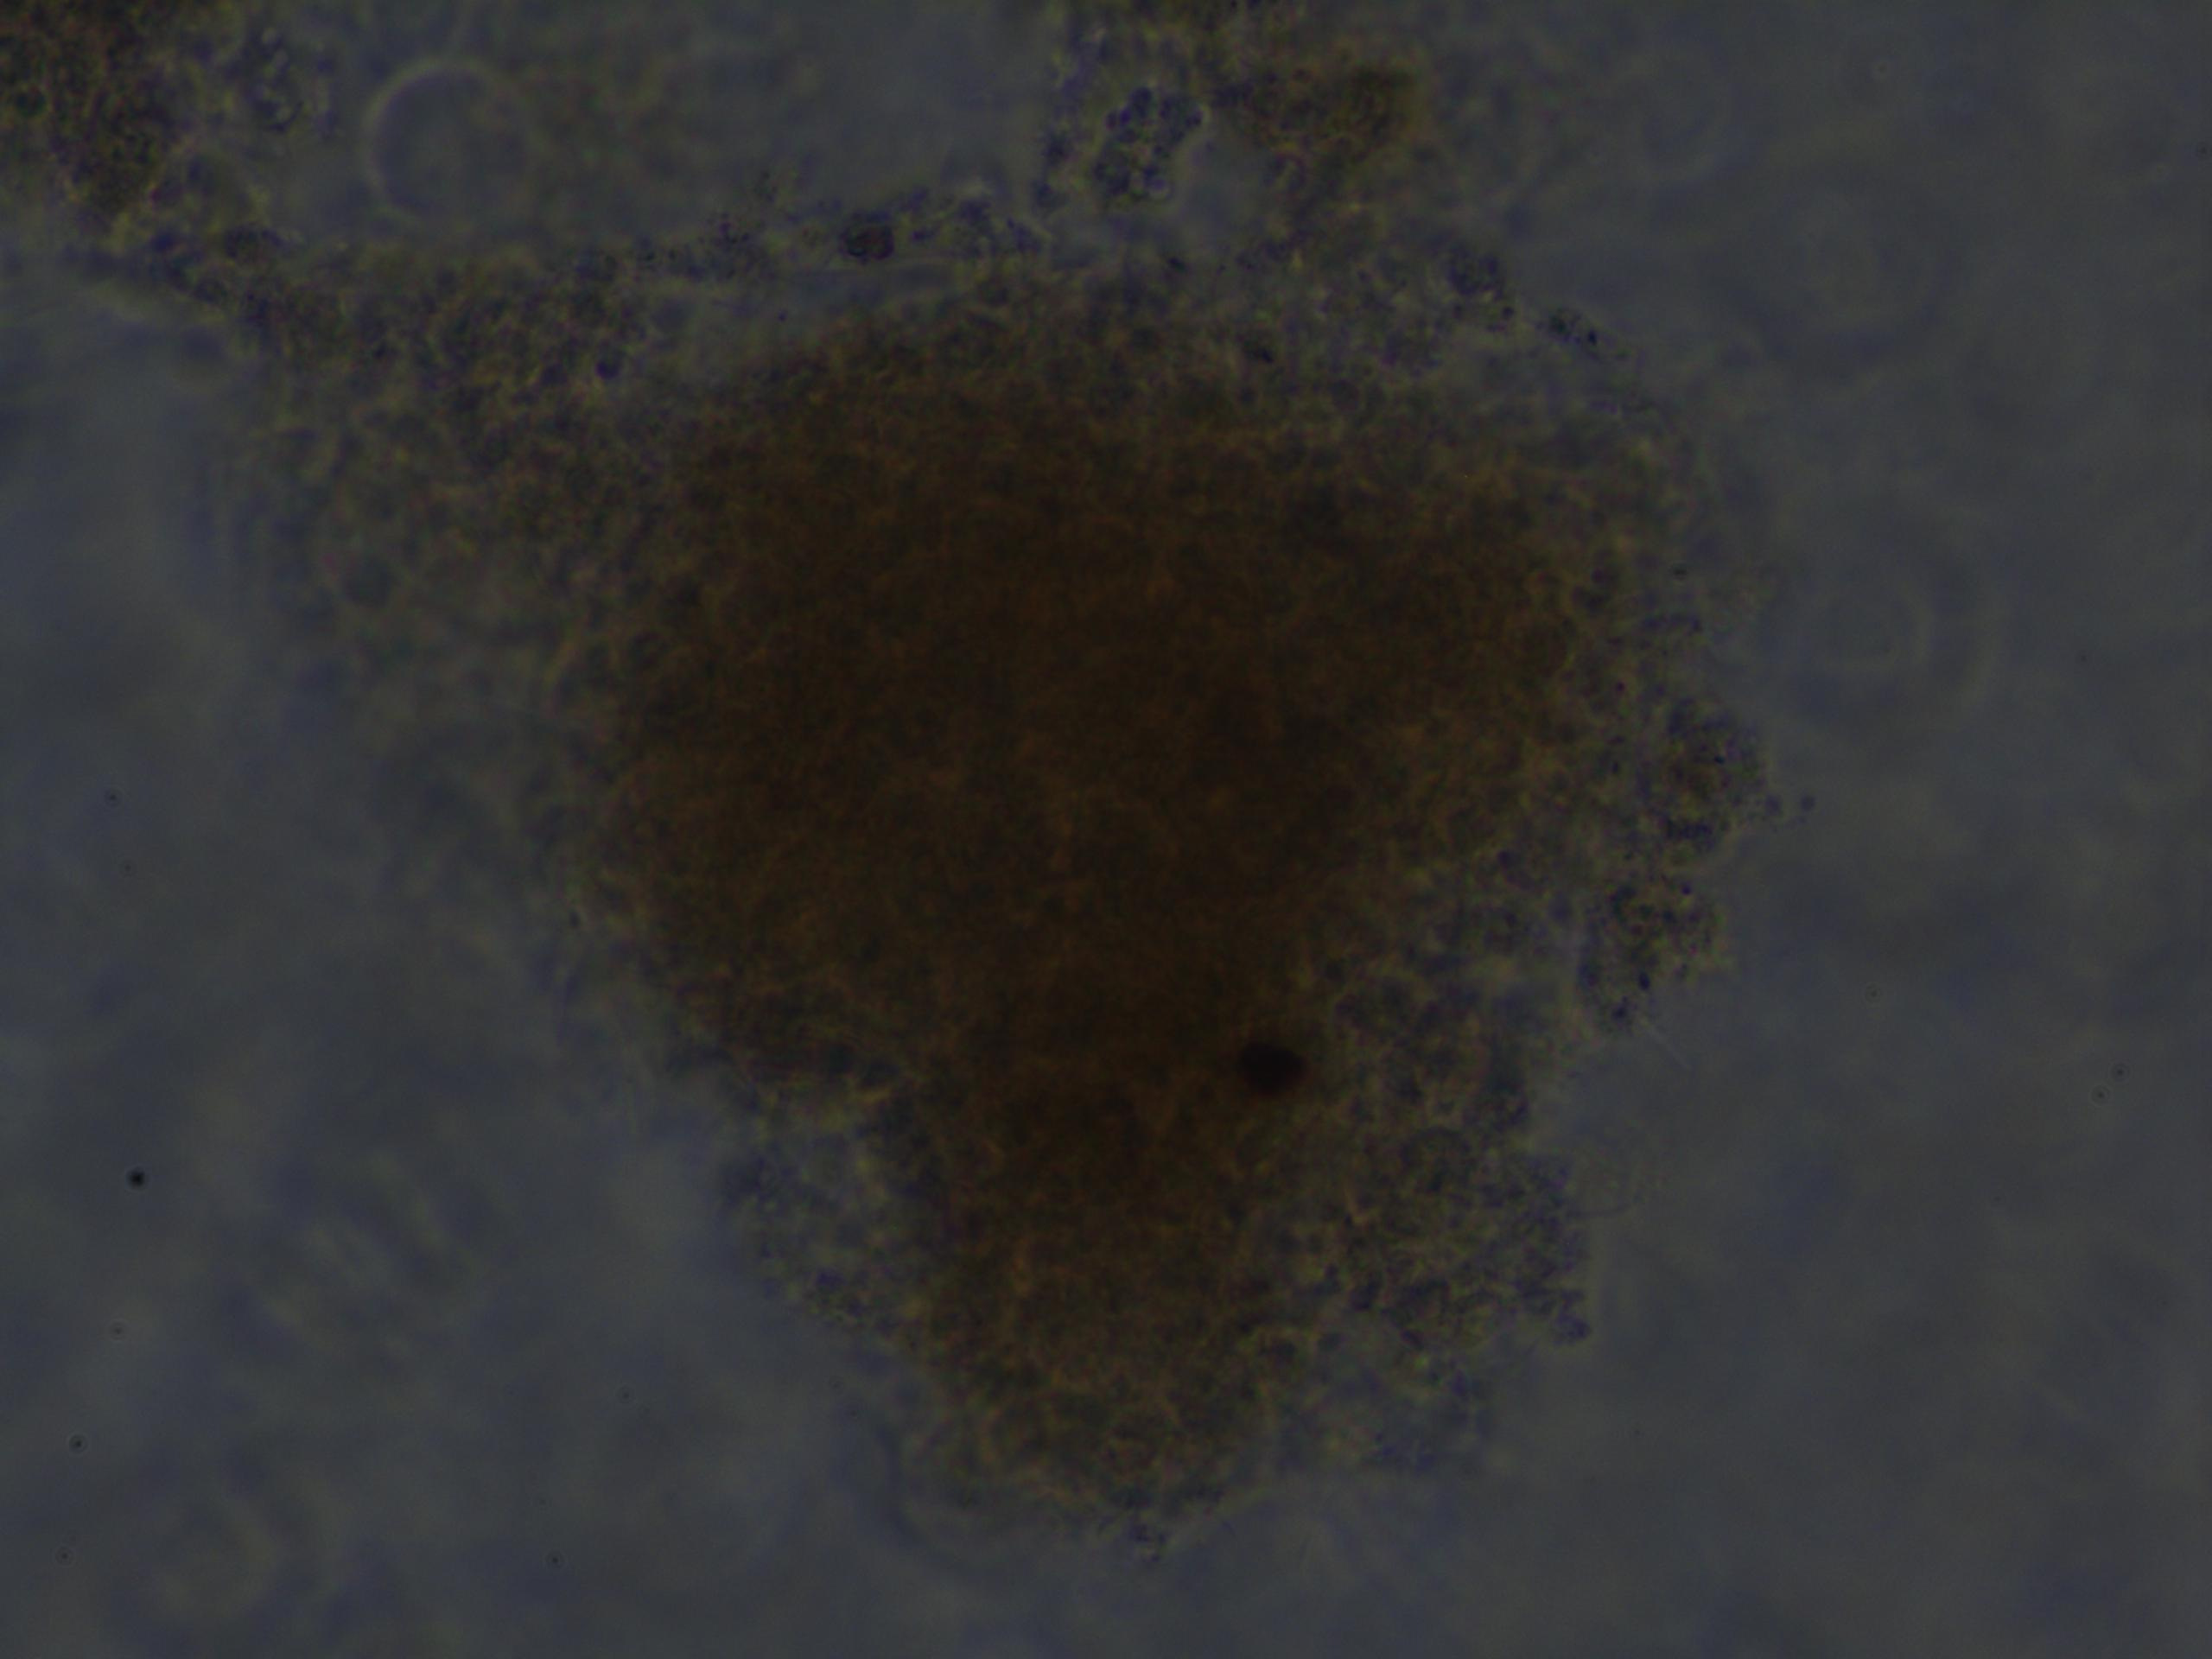spherical_floc: (512, 256, 1691, 1554)
